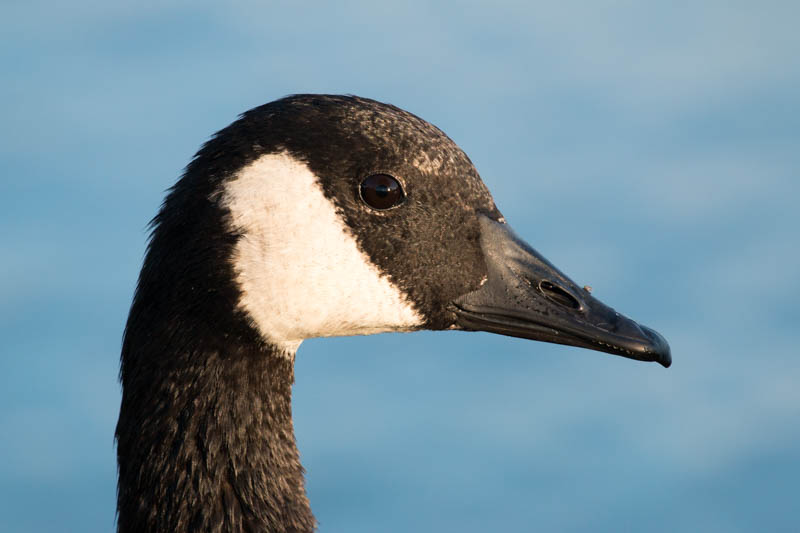goose-head: (142, 93, 674, 368)
